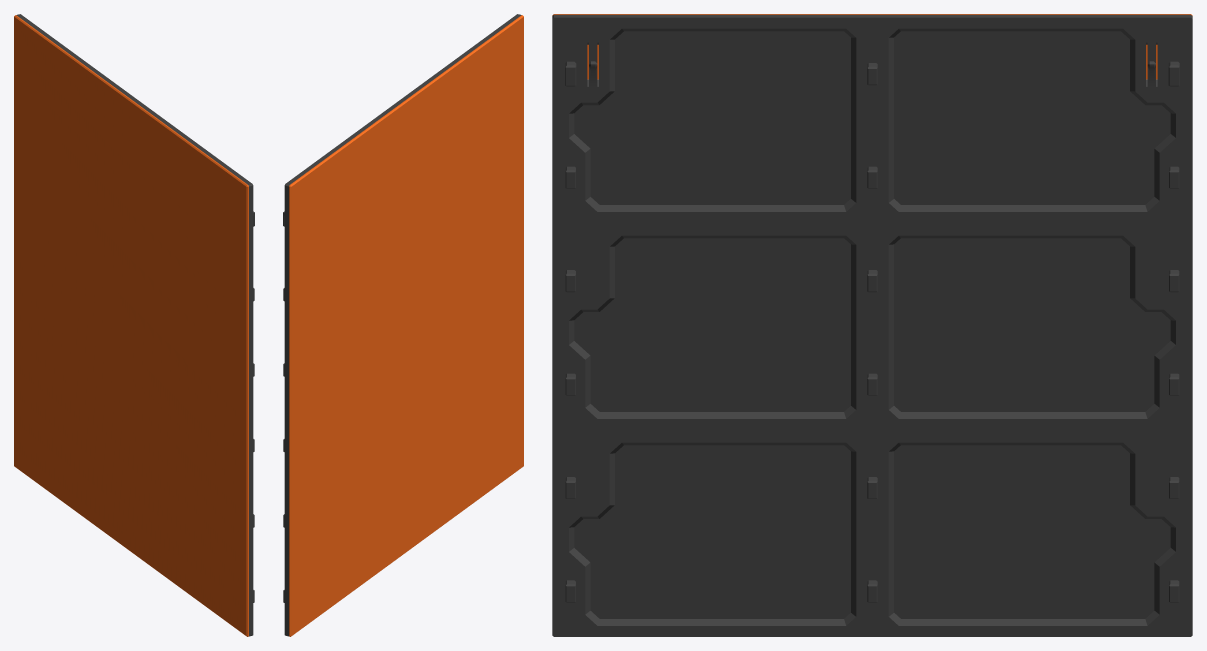
The model's file is SideCover_165-3H.lib.glb.
3 renders of one model, left to right at view 1: azimuth 30°, elevation 25°; view 2: azimuth 150°, elevation 25°; view 3: azimuth 270°, elevation 25°, orthographic. The views are drawn at different scales.
Parts seen in each view (by area): view 1: SideCover_165-3H; view 2: SideCover_165-3H; view 3: SideCover_165-3H.
Boxes of the visible parts, bbox=[...] form: SideCover_165-3H: bbox=[14, 14, 254, 636]; SideCover_165-3H: bbox=[283, 14, 523, 636]; SideCover_165-3H: bbox=[552, 14, 1192, 636].
Size of the model in its own units: 5.05 by 168 by 157.
